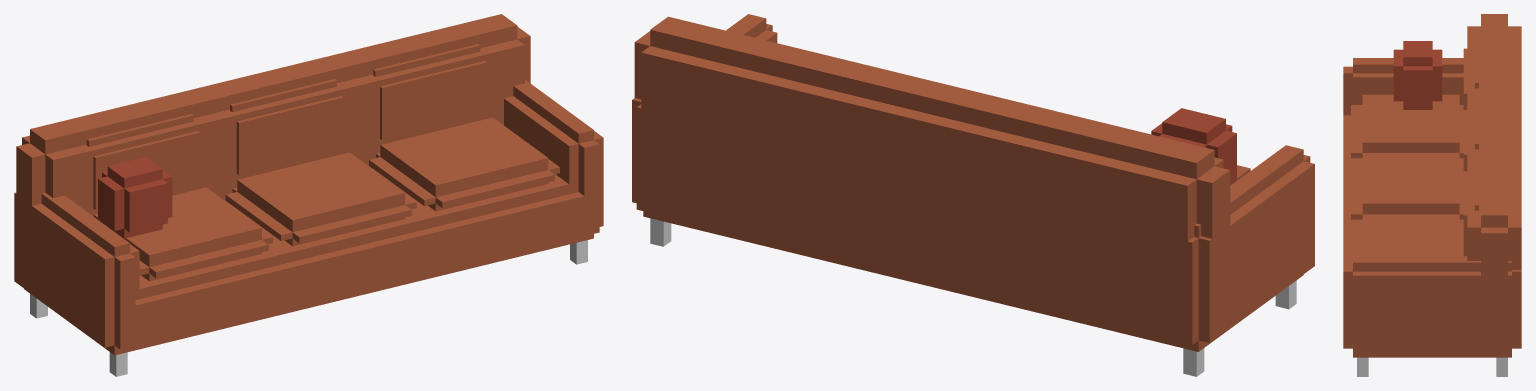
The model's file is sofa3-terracotta.glb.
3 renders of one model, left to right at view 1: azimuth 30°, elevation 25°; view 2: azimuth 150°, elevation 25°; view 3: azimuth 270°, elevation 25°, orthographic. The views are drawn at different scales.
Parts seen in each view (by area): view 1: sofa3-terracotta; view 2: sofa3-terracotta; view 3: sofa3-terracotta.
Part boxes in pixels (<box>): sofa3-terracotta: <box>14,14,603,376</box>; sofa3-terracotta: <box>632,14,1314,376</box>; sofa3-terracotta: <box>1343,14,1521,376</box>.
Size of the model in its own units: 2.99 by 1.06 by 1.06.
